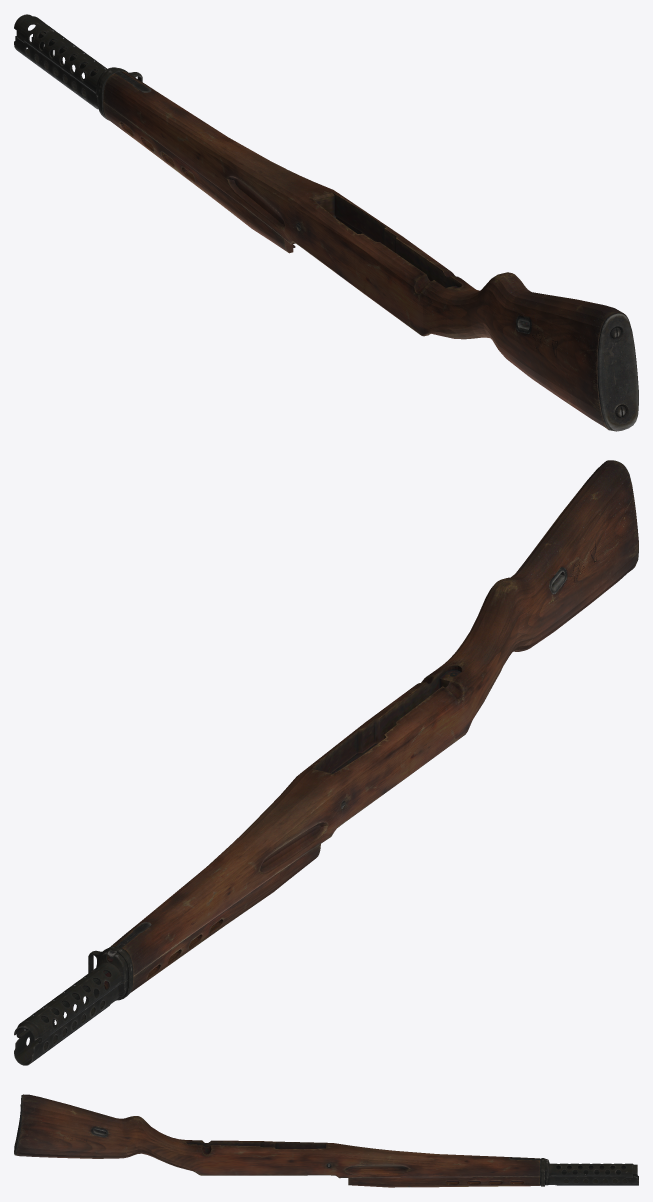
The picture shows the model from 3 angles, top to bottom: view 1: azimuth 30°, elevation 25°; view 2: azimuth 150°, elevation 25°; view 3: azimuth 270°, elevation 25°; orthographic projection. The views are drawn at different scales.
Parts seen in each view (by area): view 1: TW_6410745d5dd49d77bd078485_PZ_Import; view 2: TW_6410745d5dd49d77bd078485_PZ_Import; view 3: TW_6410745d5dd49d77bd078485_PZ_Import.
Boxes of the visible parts, <box> form: TW_6410745d5dd49d77bd078485_PZ_Import: <box>14,14,638,431</box>; TW_6410745d5dd49d77bd078485_PZ_Import: <box>14,460,638,1065</box>; TW_6410745d5dd49d77bd078485_PZ_Import: <box>14,1094,638,1187</box>.
Size of the model in its own units: 0.028 by 0.6046 by 0.0967.
Materials: 1 (1 with a texture image).
